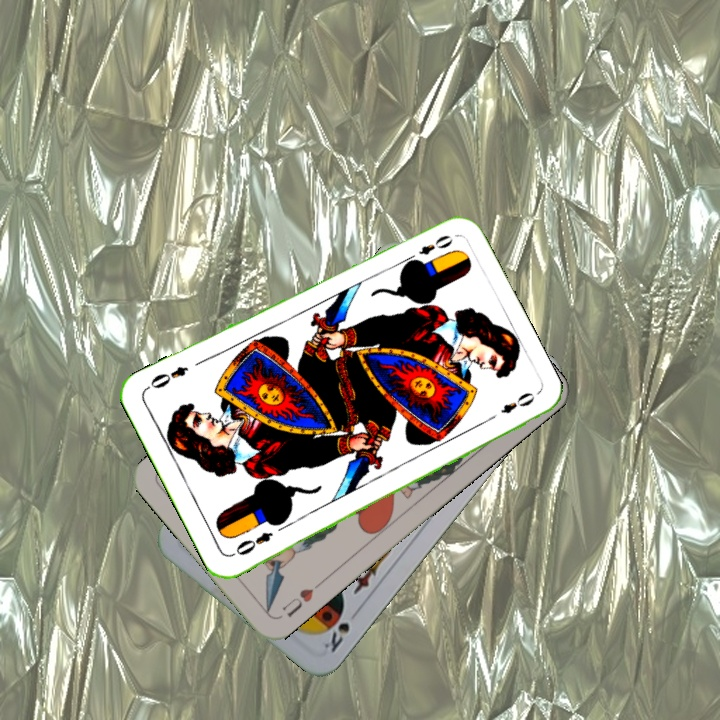EO: (402, 231, 456, 266), (227, 527, 276, 559)
HU: (278, 584, 316, 620)
SK: (319, 618, 353, 656)
